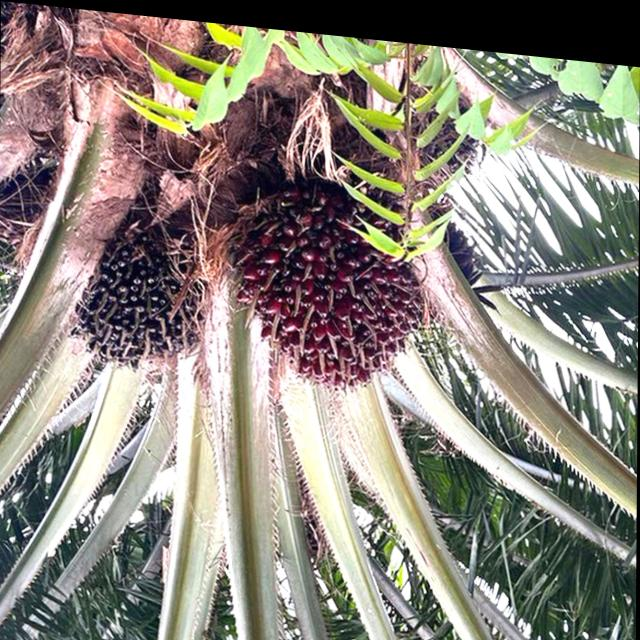ripe: (201, 150, 448, 414)
